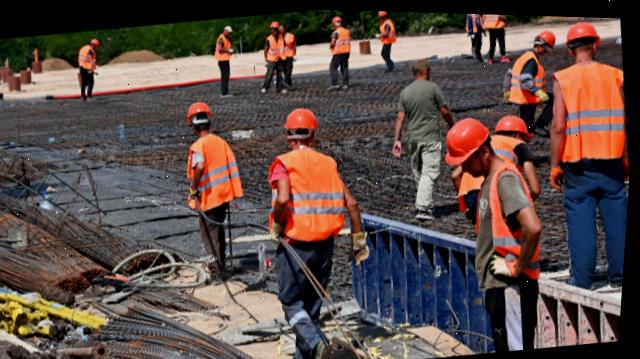helmet: (438, 112, 498, 162), (560, 15, 606, 41), (284, 101, 322, 132), (495, 110, 535, 136), (185, 97, 216, 120), (535, 21, 560, 49), (221, 20, 233, 33), (272, 19, 284, 30), (88, 35, 100, 46), (331, 13, 345, 22), (377, 9, 389, 15)
vest: (547, 52, 634, 162), (478, 156, 546, 283), (271, 142, 353, 243), (185, 131, 249, 207), (455, 136, 533, 190), (505, 44, 554, 100), (212, 31, 236, 59), (265, 28, 287, 57), (76, 42, 98, 70), (280, 27, 302, 55), (333, 22, 352, 54), (378, 13, 398, 40), (465, 11, 484, 27), (483, 11, 505, 24)
